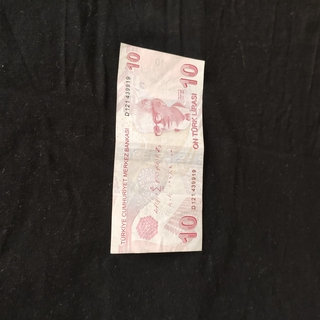10TLBack: (108, 41, 204, 255)
